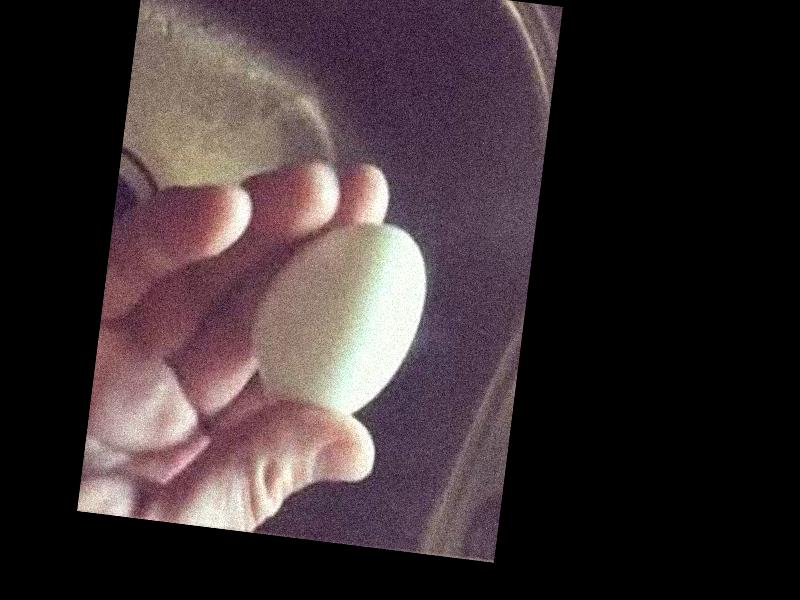Eggs: (246, 209, 433, 423)
